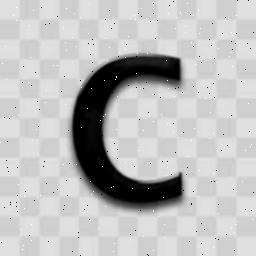c: (64, 32, 194, 222)
